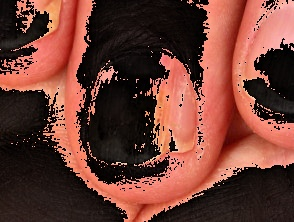Nail_psoriasis: (67, 42, 208, 185), (232, 64, 294, 124), (0, 0, 65, 50)
